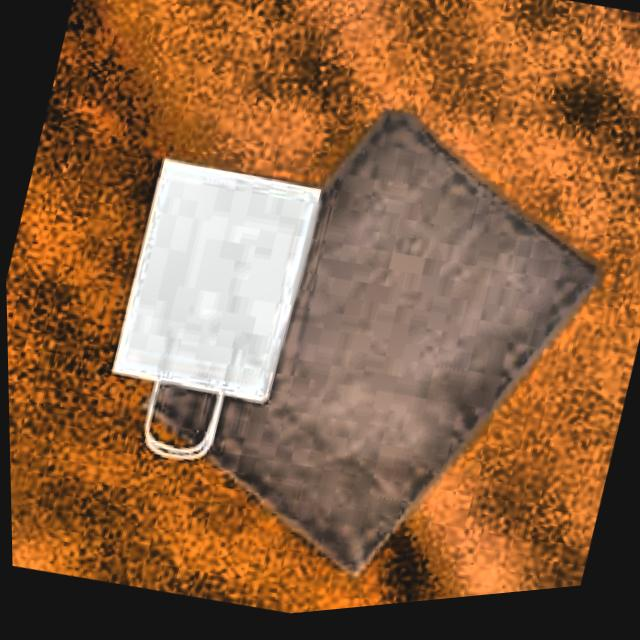Paper-bag: (90, 38, 640, 633), (67, 131, 339, 504)
